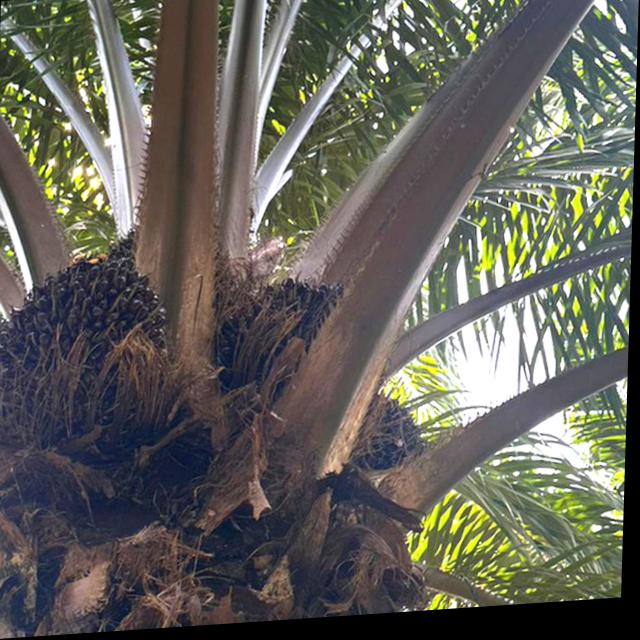almost: (0, 228, 182, 466), (209, 247, 353, 434), (352, 382, 440, 506)
